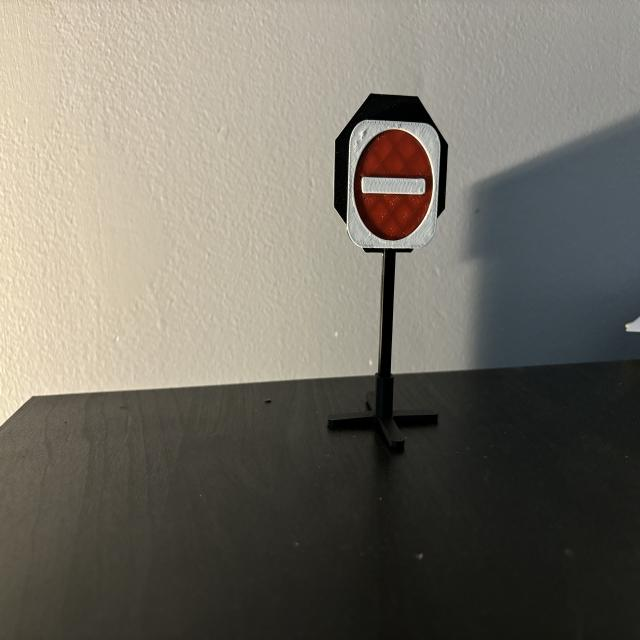sign_noentry: (348, 122, 441, 248)
